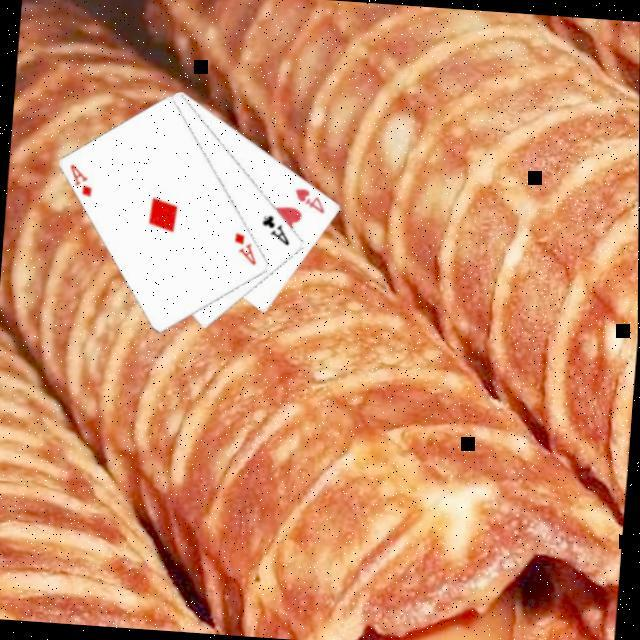4H: (289, 183, 329, 216)
AC: (256, 210, 294, 248)
AD: (228, 228, 261, 268), (64, 159, 97, 199)
